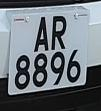6: (65, 50, 83, 86)
8: (12, 52, 33, 93), (31, 52, 50, 90)
9: (48, 51, 67, 87)
A: (32, 10, 51, 56)
R: (49, 12, 69, 55)
